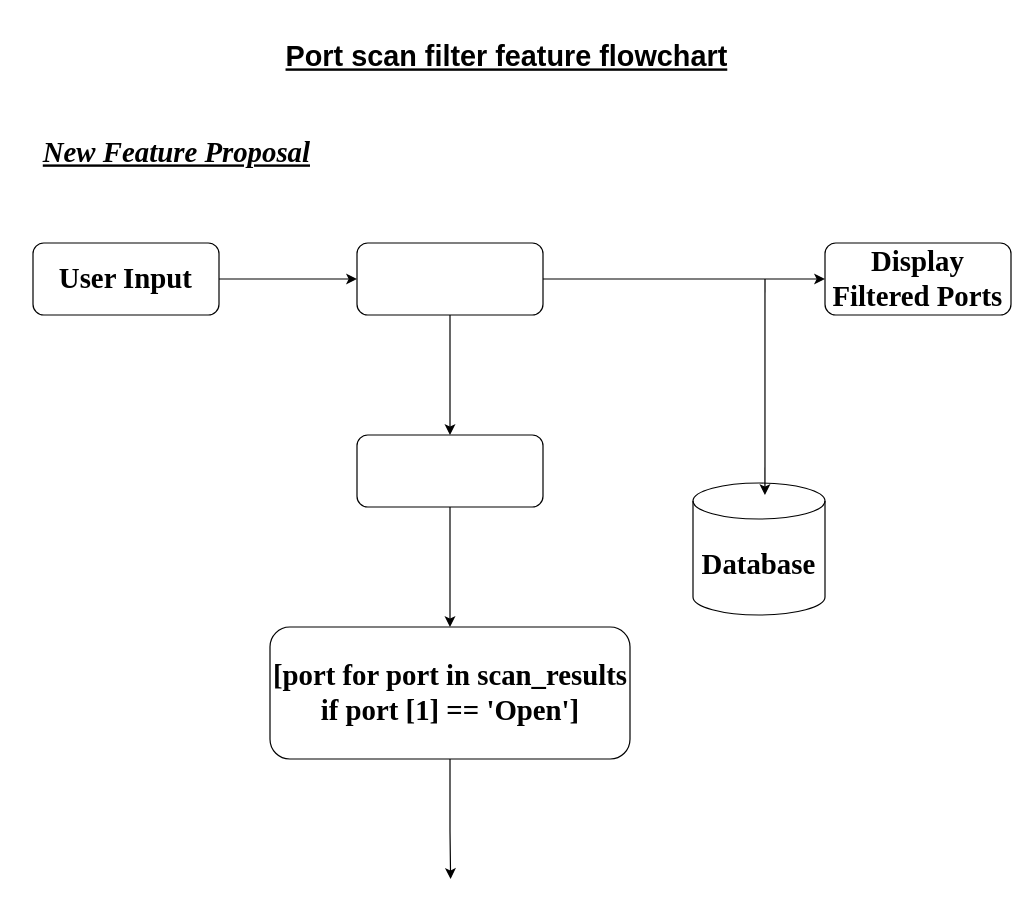
Some shapes in this 1032 by 910 pixel diagram are drawn without their labels. The shapes that lost their labels are listed below. From the top down, each one's box as (x1, y1, x2, y2) in pixels, then its label:
(356, 242, 543, 315): PortScanner
(356, 434, 543, 507): scan_result List
